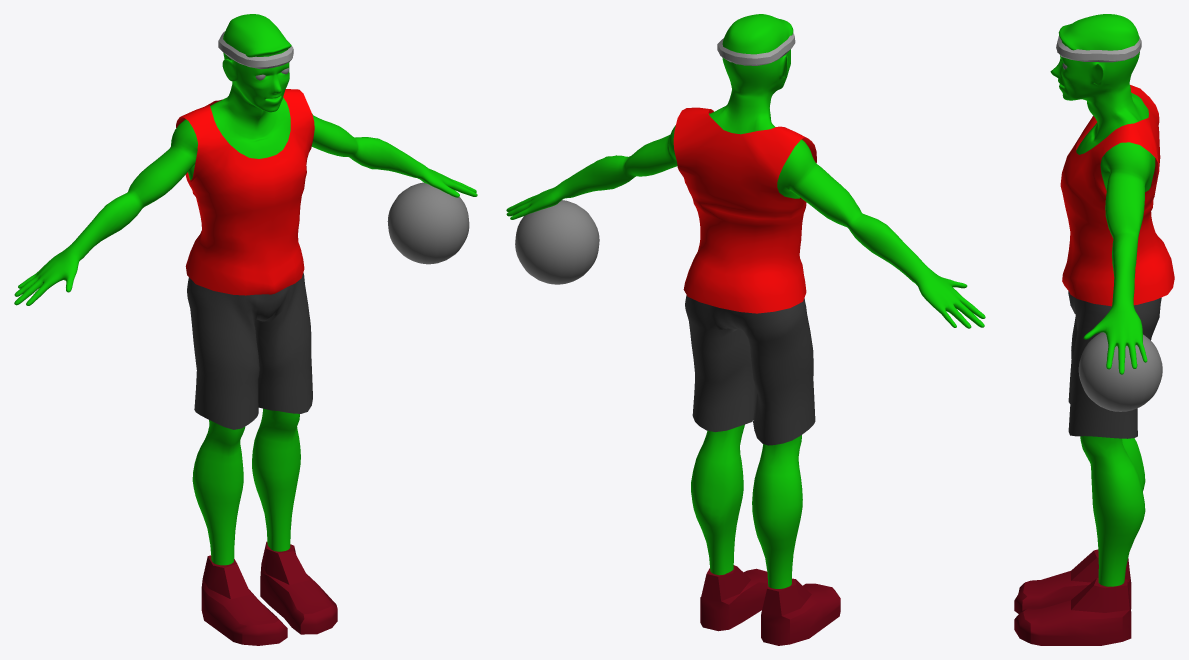
File: BasketballPlayer(FixedUVs1).obj
3 renders of one model, left to right at view 1: azimuth 30°, elevation 25°; view 2: azimuth 150°, elevation 25°; view 3: azimuth 270°, elevation 25°, orthographic. The views are drawn at different scales.
Parts seen in each view (by area): view 1: GenericMesh1, GenericMesh4, GenericMesh5, pSphere3, pCube2 pCube1, pCube3, pPipe1; view 2: GenericMesh1, GenericMesh4, GenericMesh5, pSphere3, pCube2 pCube1, pCube3, pPipe1; view 3: GenericMesh1, GenericMesh4, pCube3, GenericMesh5, pSphere3, pCube2 pCube1, pPipe1.
Boxes of the visible parts, x1,y1,x2,y2 form: GenericMesh1: (14,14,477,565); GenericMesh4: (176,89,314,295); GenericMesh5: (187,273,312,429); pSphere3: (387,182,469,264); pCube2 pCube1: (201,555,287,645); pCube3: (260,541,337,634); pPipe1: (218,31,293,69); GenericMesh1: (506,14,985,588); GenericMesh4: (673,107,816,313); GenericMesh5: (685,295,815,445); pSphere3: (515,200,599,284); pCube2 pCube1: (761,578,840,645); pCube3: (700,565,767,631); pPipe1: (717,33,795,65); GenericMesh1: (1050,14,1155,586); GenericMesh4: (1060,85,1174,306); pCube3: (1014,578,1131,645); GenericMesh5: (1068,291,1161,438); pSphere3: (1078,332,1162,411); pCube2 pCube1: (1014,549,1131,613); pPipe1: (1056,36,1141,62).
Bounding box in the file's own units: 29.33 × 35.68 × 8.62.
